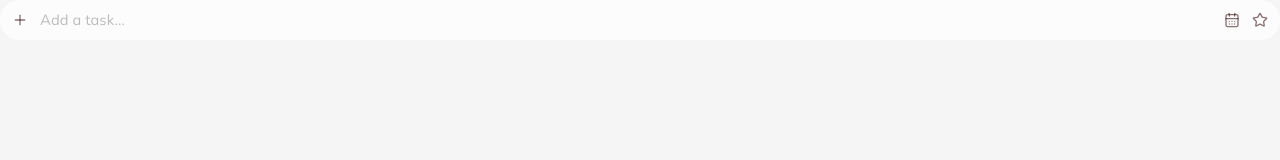
Test: QuickAddTask › shows error when submitting empty title
Click the button named "Add task".
click(20, 20)  # box [8,8,32,32]
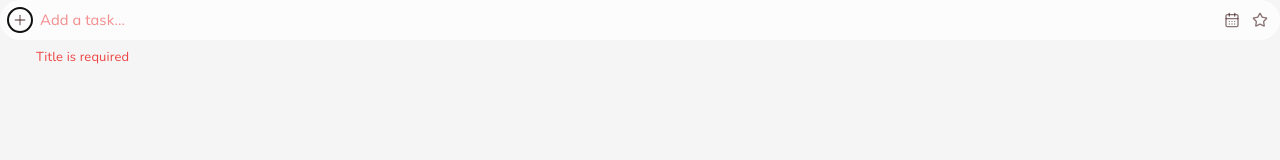
Check: the text "Title is required" is shown, box [36,48,129,66]
